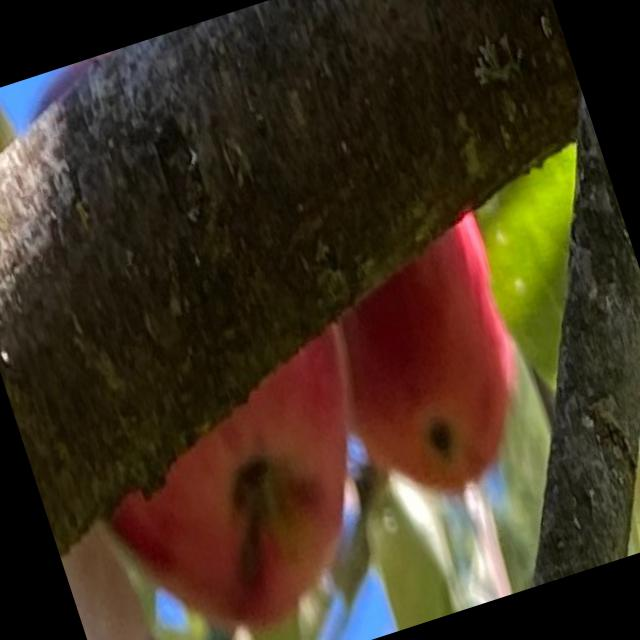Apples: (64, 322, 416, 639), (298, 211, 554, 515)
